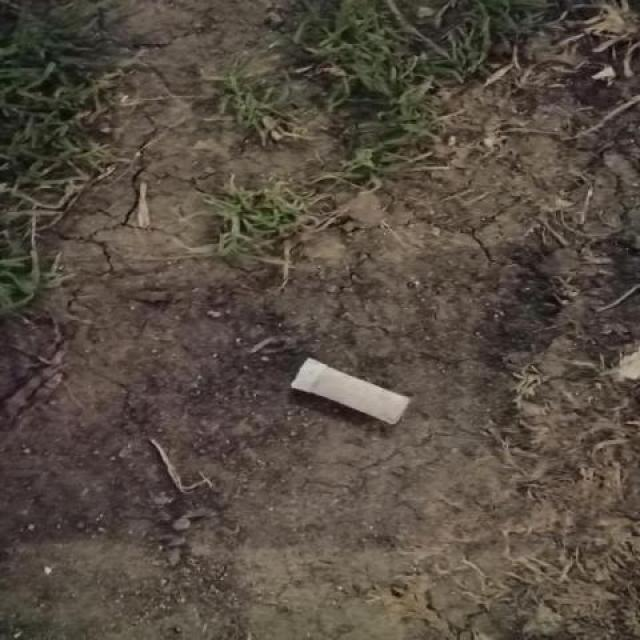non-organic waste: (287, 350, 417, 430)
